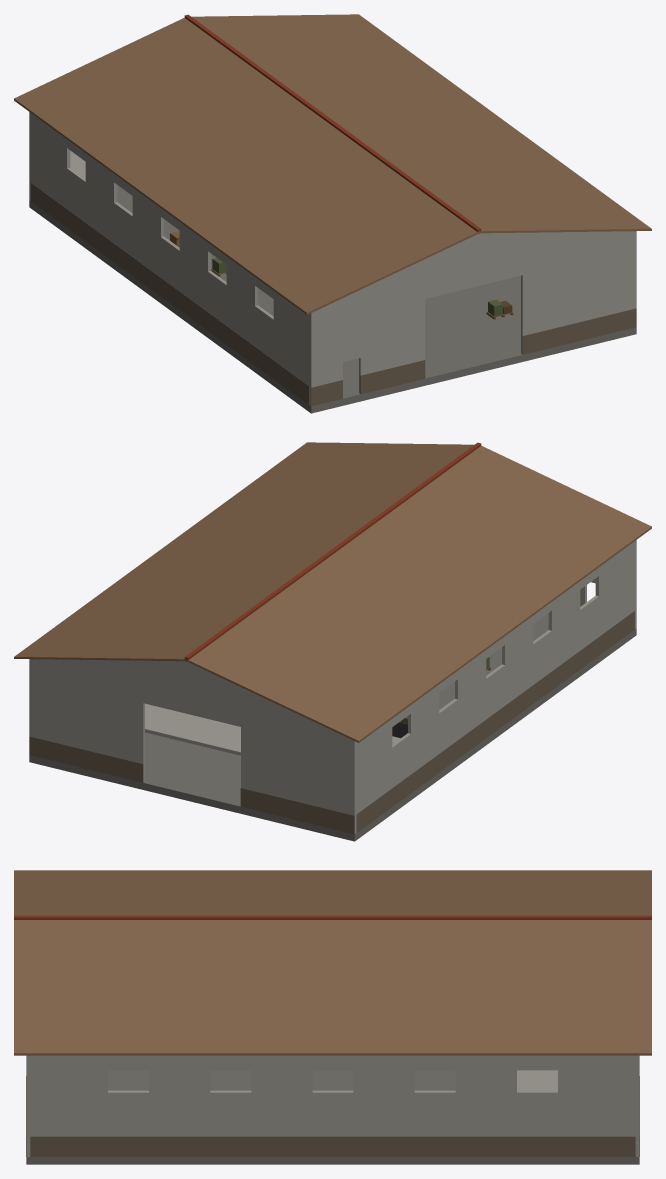
Rendered from galpao_b.glb.
3 renders of one model, top to bottom at view 1: azimuth 30°, elevation 25°; view 2: azimuth 150°, elevation 25°; view 3: azimuth 270°, elevation 25°, orthographic. The views are drawn at different scales.
Visible parts, largest first — view 1: galpao_b; view 2: galpao_b; view 3: galpao_b.
Boxes of the visible parts, x1,y1,x2,y2 form: galpao_b: (14,14,651,413); galpao_b: (14,442,651,841); galpao_b: (14,870,651,1164).
Size of the model in its own units: 21.2 by 8.72 by 31.2.
